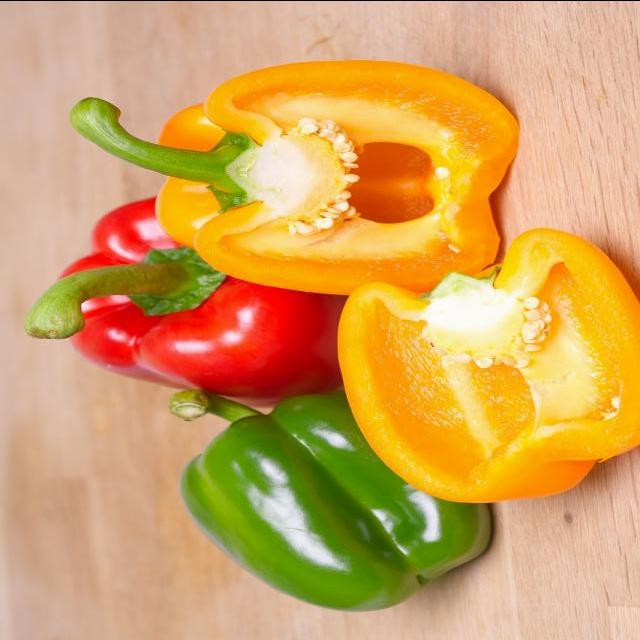bell_pepper: (67, 63, 523, 297), (336, 222, 640, 505), (25, 194, 370, 405), (181, 387, 503, 611)
